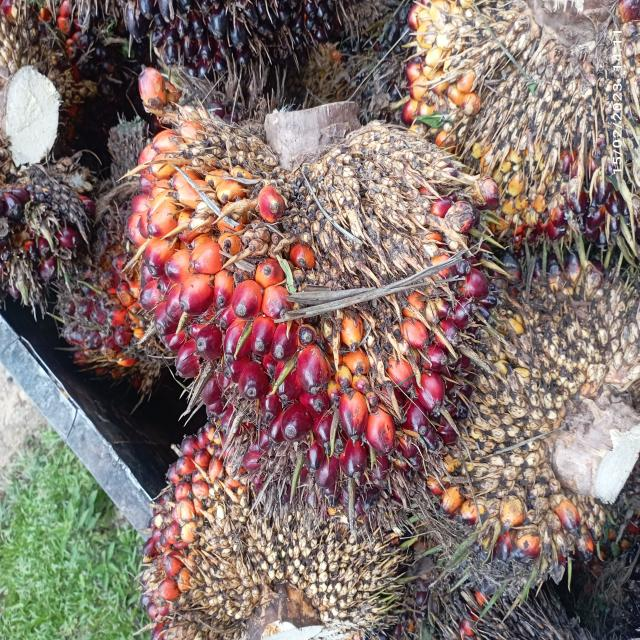fraksi 3: (108, 49, 509, 527)
